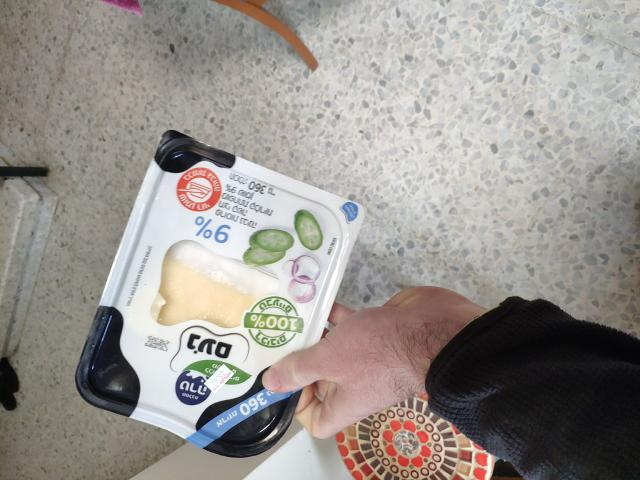cheese: (110, 161, 329, 424)
